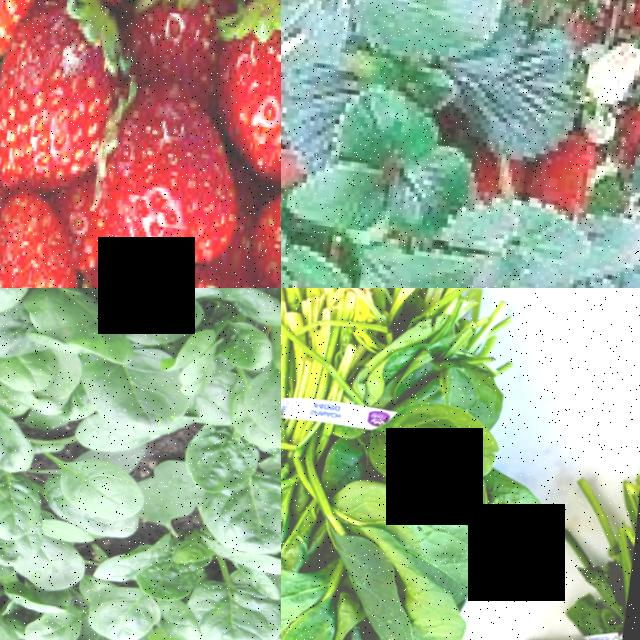spinach: (329, 473, 499, 640), (361, 388, 510, 492), (193, 551, 281, 640), (82, 355, 190, 425), (60, 446, 155, 517), (197, 479, 281, 547), (185, 418, 267, 485), (107, 288, 207, 341), (0, 465, 50, 538), (241, 355, 281, 442)
strawberry: (9, 0, 125, 194), (106, 76, 222, 268), (218, 0, 281, 156), (0, 233, 89, 288)
